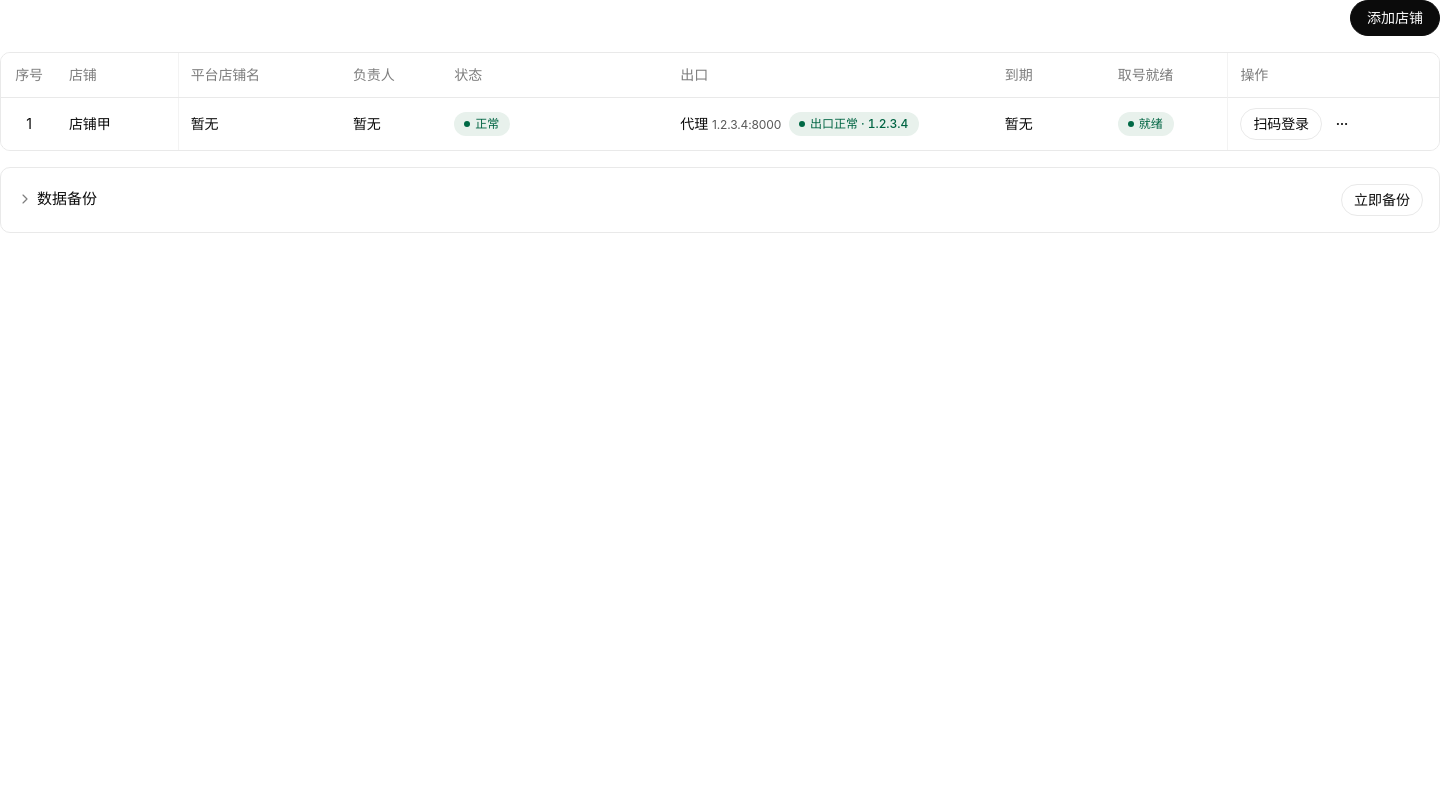
Test case: 店铺字段展示与编辑 › 停用已登录的店：先确认，确认后 PATCH enabled=false
Later steps or results of the test are not shown.
Click the button named "更多操作".
click(1342, 124)  # box left=1326, top=108, right=1358, bottom=140
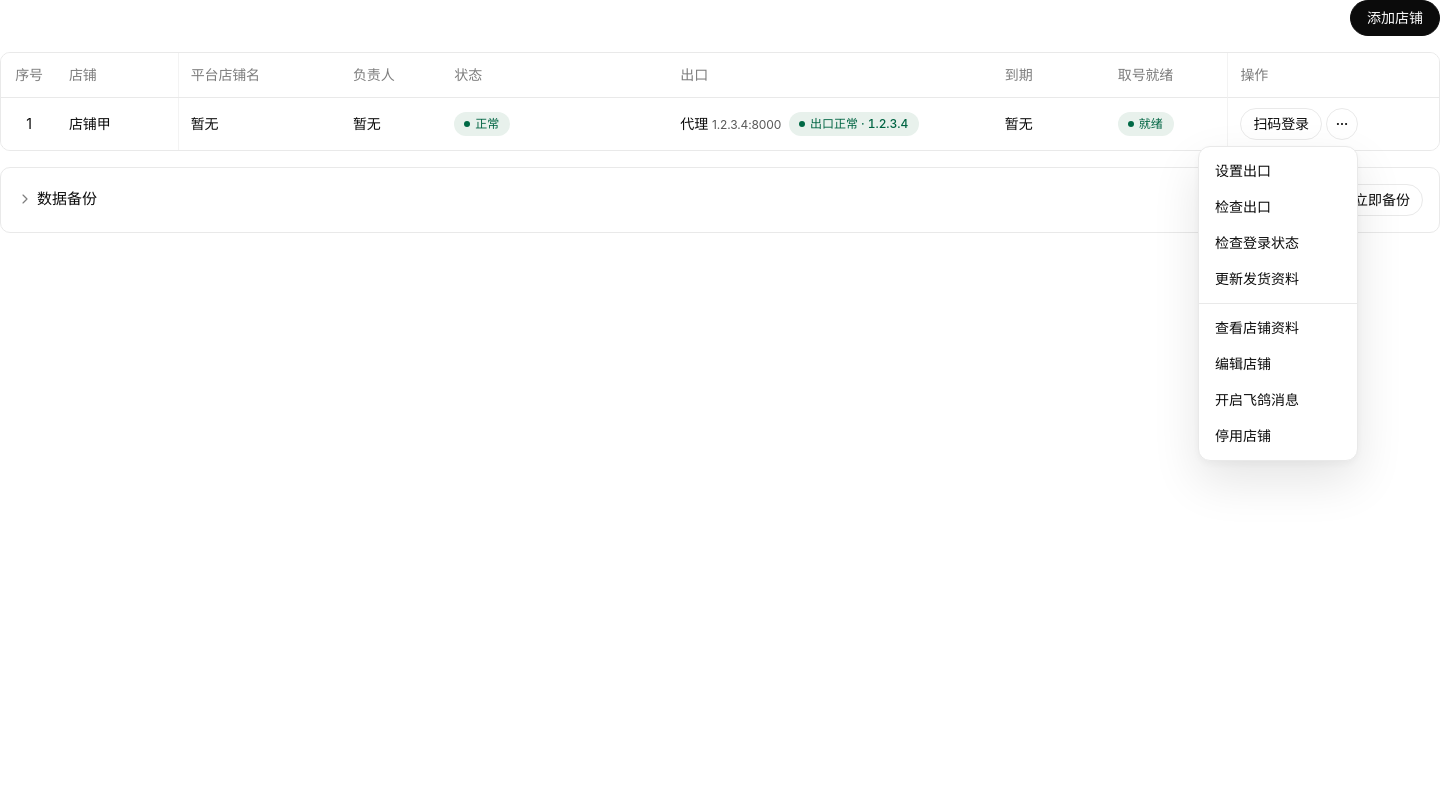
Click the menu item "停用店铺".
click(1243, 436)  # box left=1215, top=427, right=1271, bottom=444
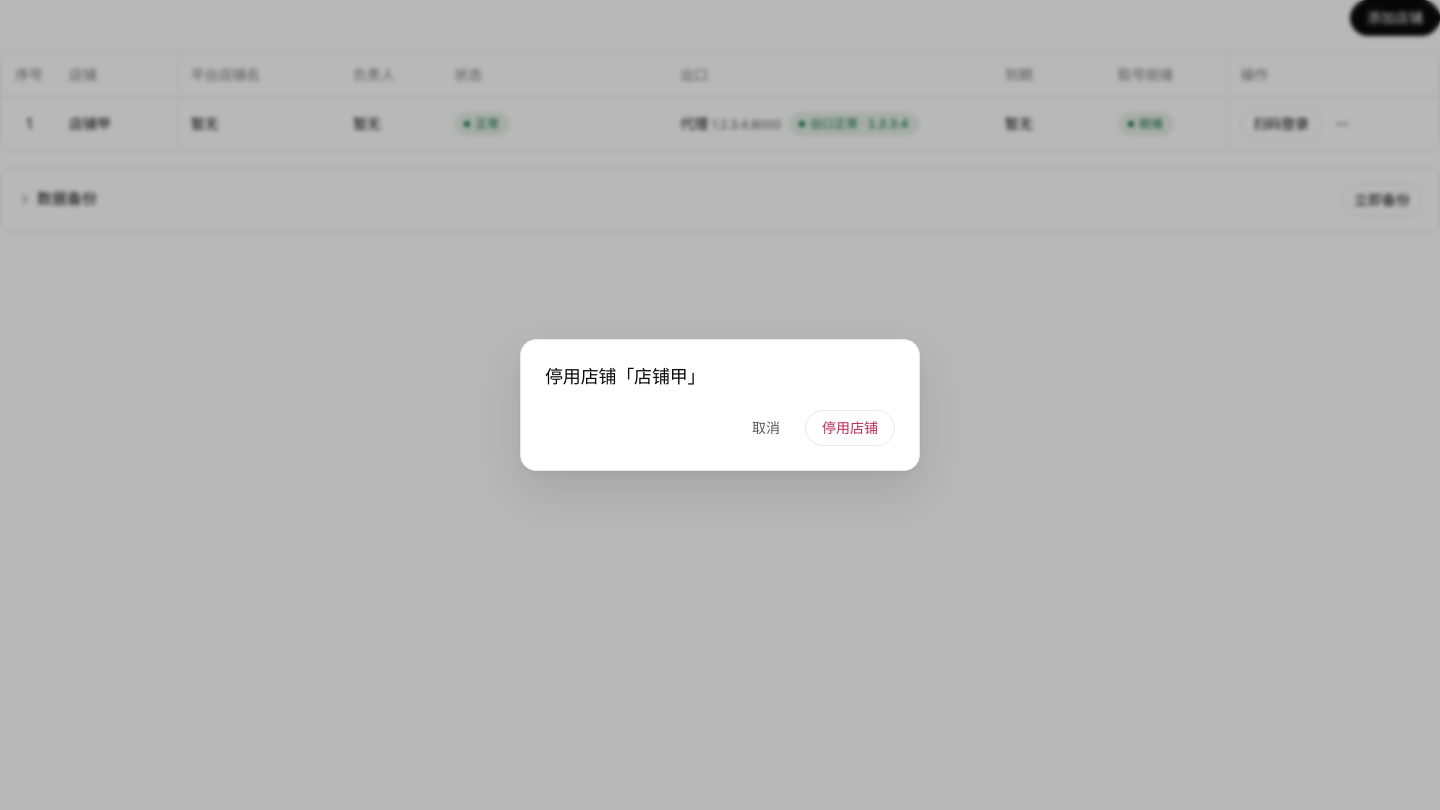
Expected: the text "停用店铺「店铺甲」" is shown, left=545, top=364, right=705, bottom=390
